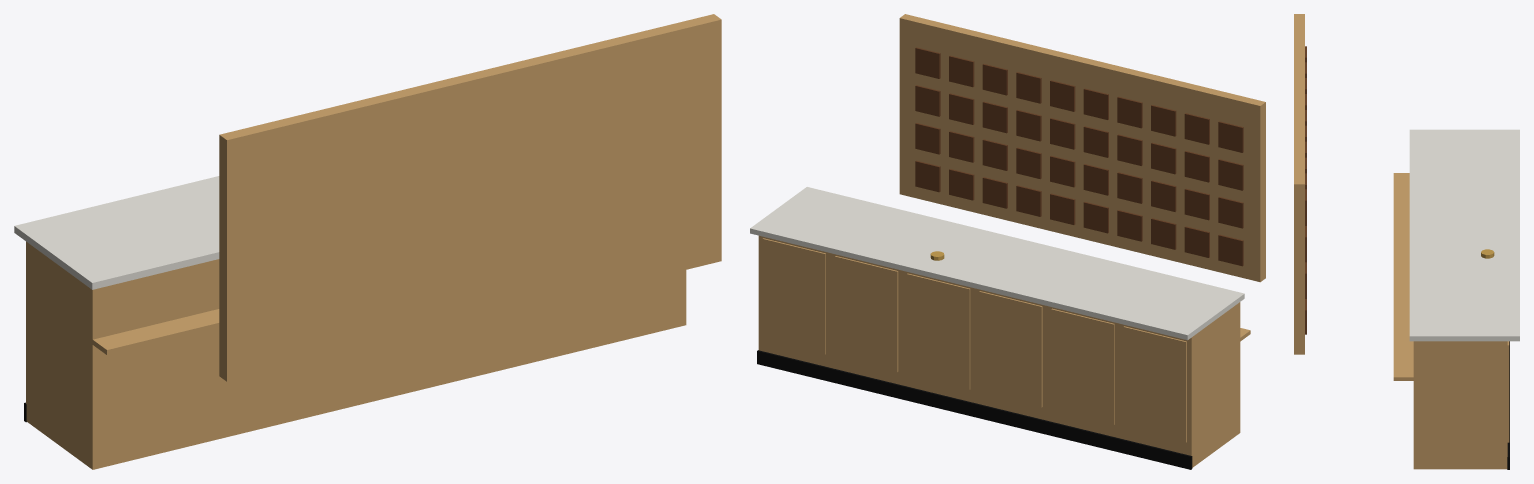
The model's file is hospitality.hotel.reception.glb.
3 views of the same model, side by side, from view 1: azimuth 30°, elevation 25°; view 2: azimuth 150°, elevation 25°; view 3: azimuth 270°, elevation 25° (orthographic). The views are drawn at different scales.
Visible parts, largest first — view 1: back__glulam, main__glulam, main__marble; view 2: main__glulam, back__glulam, back__hardwood, main__marble, main__plastic_black; view 3: main__marble, main__glulam, back__glulam, back__hardwood.
Boxes of the visible parts, bbox=[...] form: back__glulam: bbox=[219, 14, 721, 381]; main__glulam: bbox=[26, 241, 686, 469]; main__marble: bbox=[14, 176, 219, 289]; main__glulam: bbox=[758, 235, 1250, 467]; back__glulam: bbox=[899, 14, 1265, 282]; back__hardwood: bbox=[915, 47, 1243, 266]; main__marble: bbox=[750, 187, 1244, 340]; main__plastic_black: bbox=[757, 350, 1192, 469]; main__marble: bbox=[1409, 129, 1519, 341]; main__glulam: bbox=[1393, 173, 1509, 469]; back__glulam: bbox=[1294, 14, 1304, 354]; back__hardwood: bbox=[1305, 46, 1306, 334].
Bounding box in the file's own units: 3.64 × 2.2 × 1.68.
